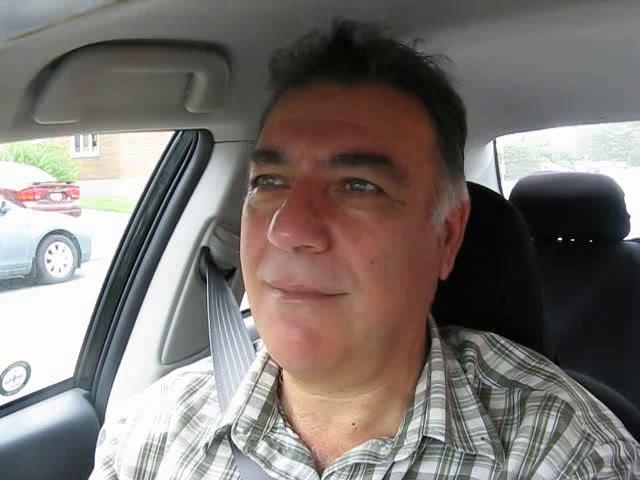no_yawn: (248, 263, 358, 323)
open_eyeL: (240, 162, 303, 204)
open_eyeR: (323, 167, 405, 212)
